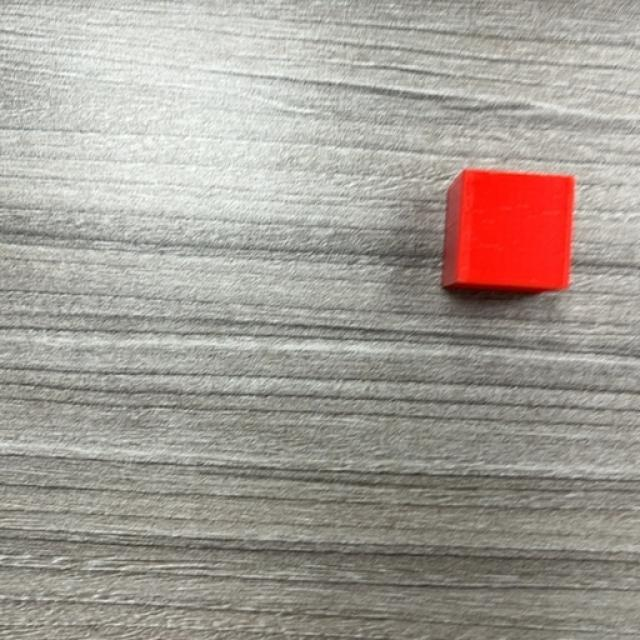Rojo: (440, 168, 576, 294)
